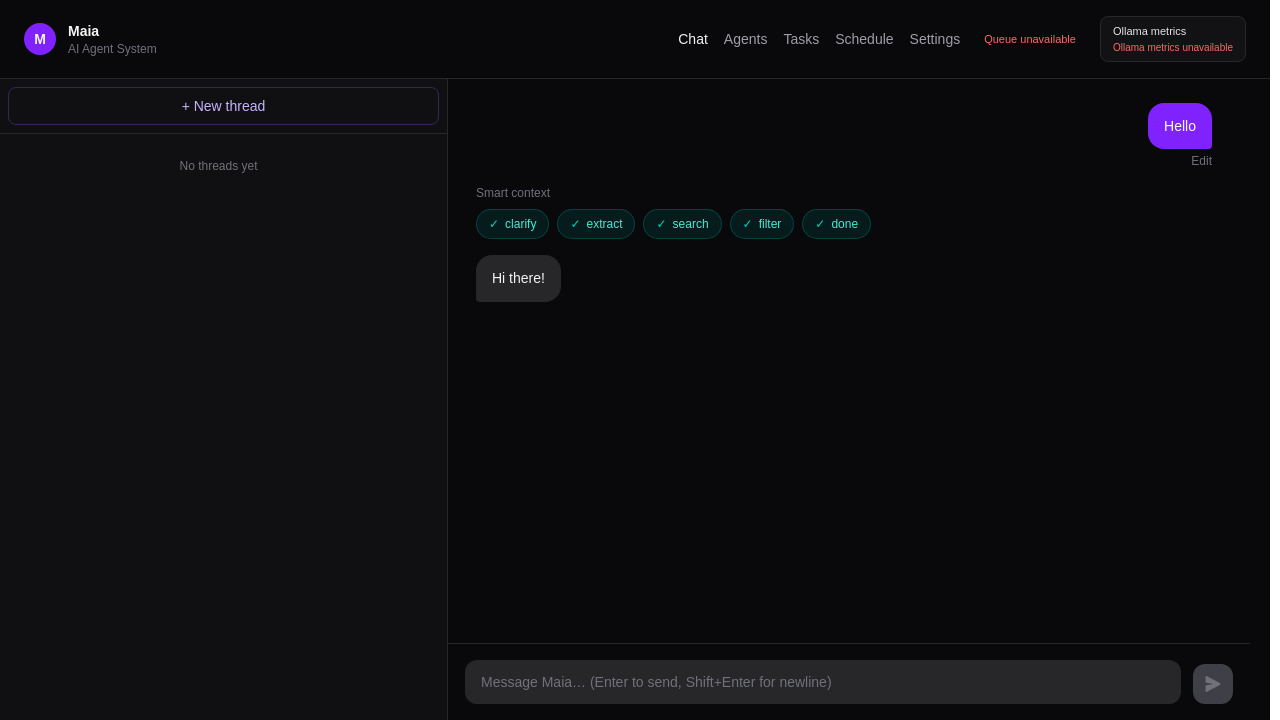
Test: Home page › restores smart context bubbles when canceling message edit
Expected: the text "Hello" is shown, [1164,114,1196,137]
Expected: the text "Smart context" is shown, [476,185,550,201]
Click the button with aria-label "Edit this message": coordinates (1202, 161) [1191,153,1212,169]
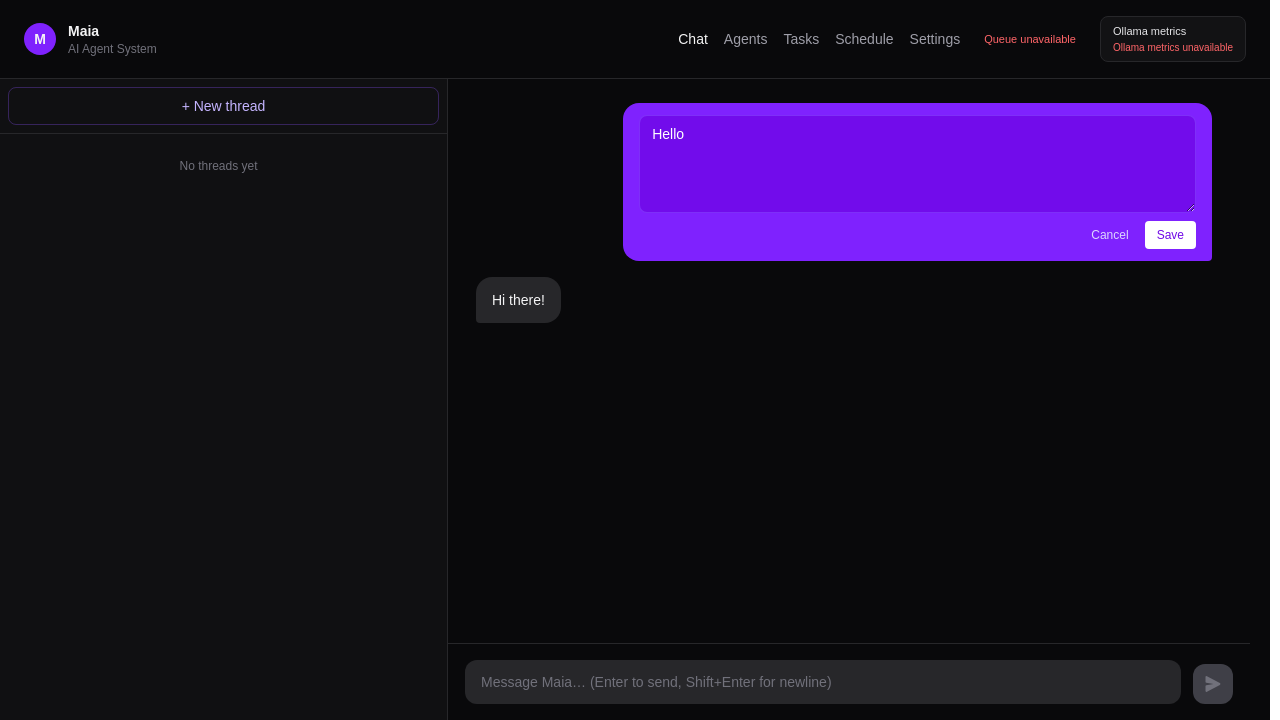
Expected: the text "Smart context" is gone
Click the button with aria-label "Cancel editing": coordinates (1110, 234) [1083,220,1137,248]
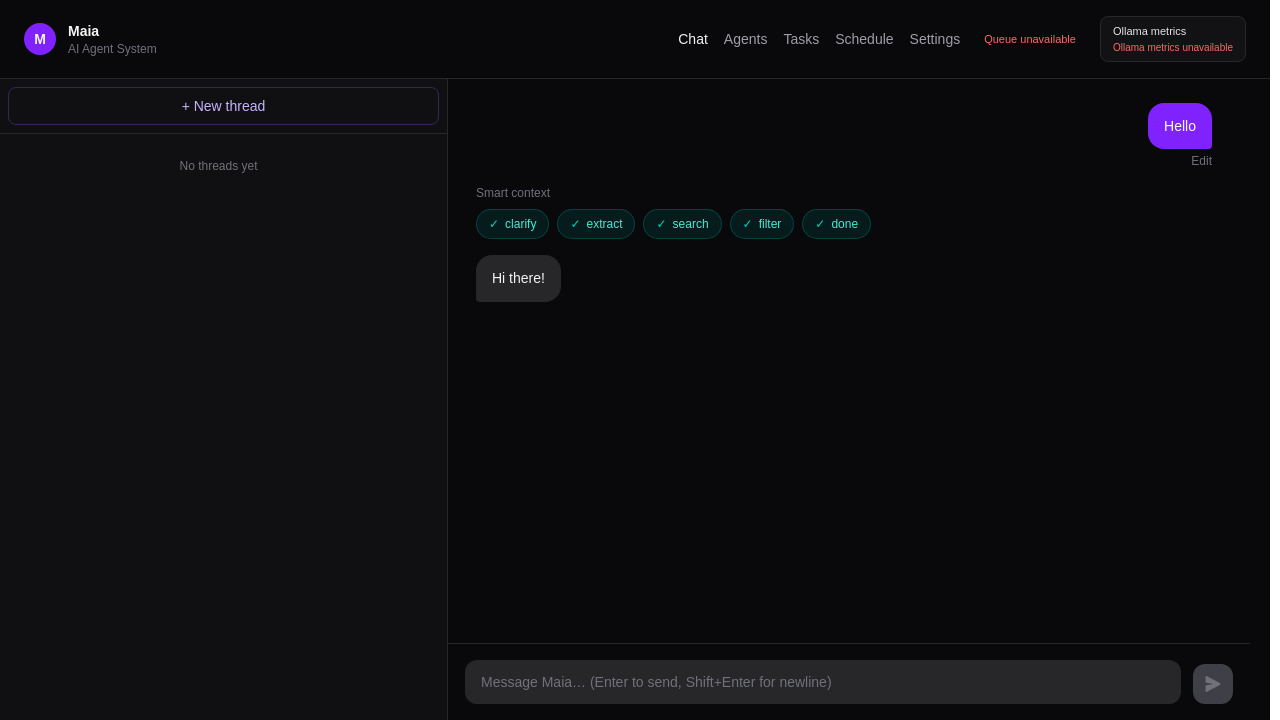
Expected: the text "Smart context" is shown, [476,185,550,201]
